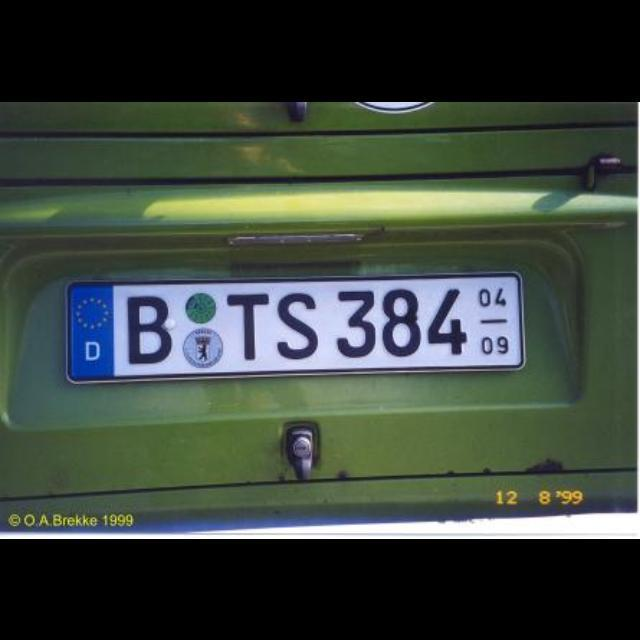license-plates: (67, 274, 526, 383)
